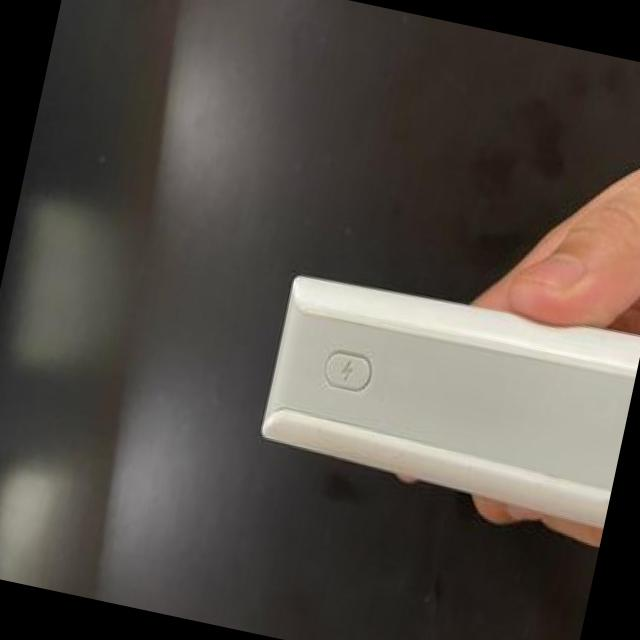portable-charger: (243, 256, 640, 532)
